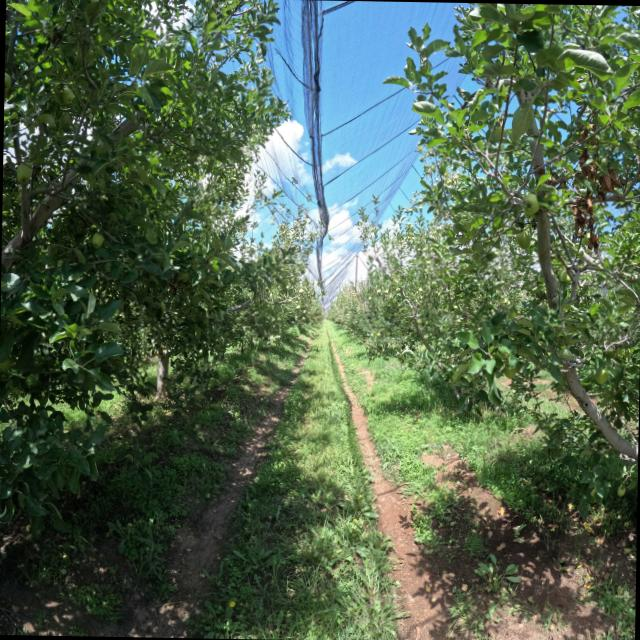-FireBlight-: (567, 122, 627, 254)
